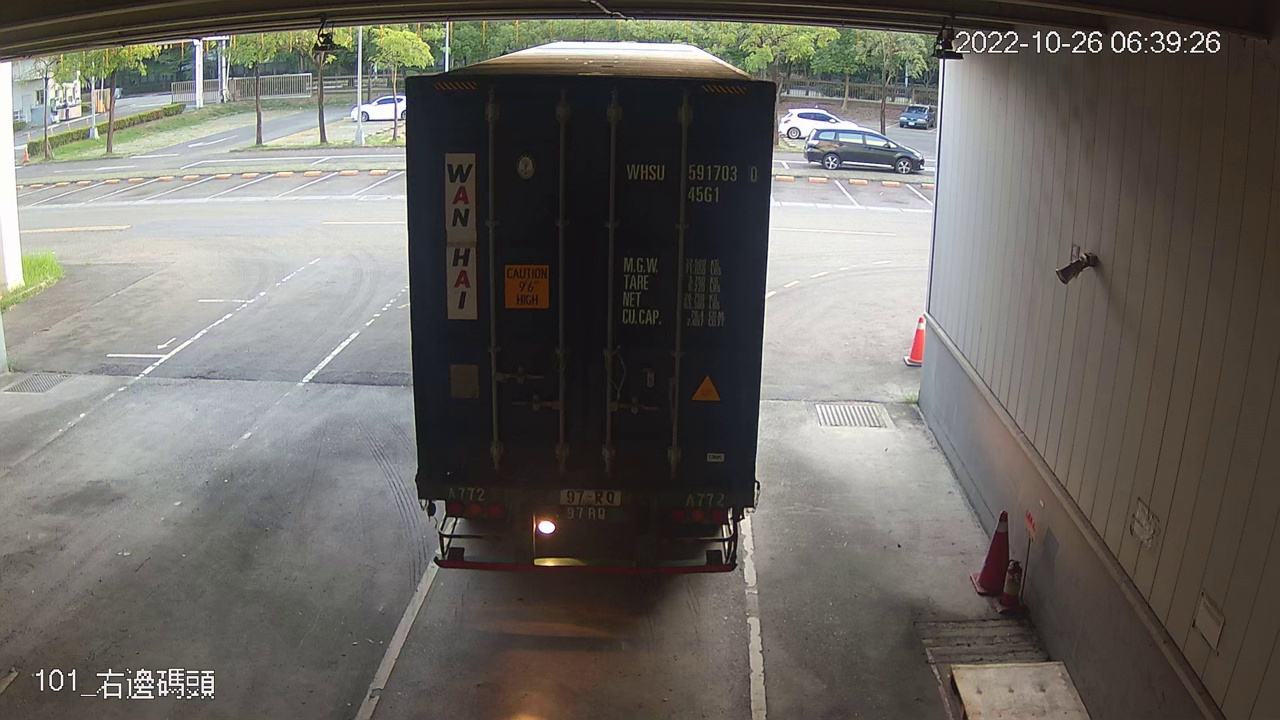container: (621, 155, 763, 209)
